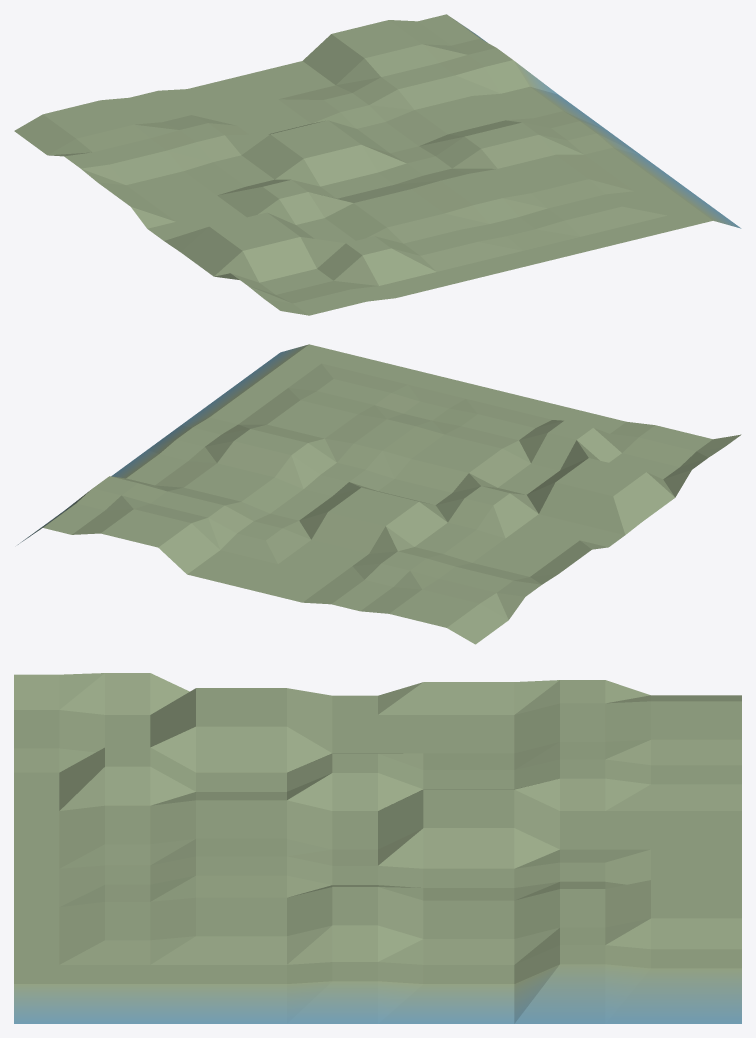
The picture shows the model from 3 angles, top to bottom: view 1: azimuth 30°, elevation 25°; view 2: azimuth 150°, elevation 25°; view 3: azimuth 270°, elevation 25°; orthographic projection. The views are drawn at different scales.
Size of the model in its own units: 32 by 2.32 by 32.
